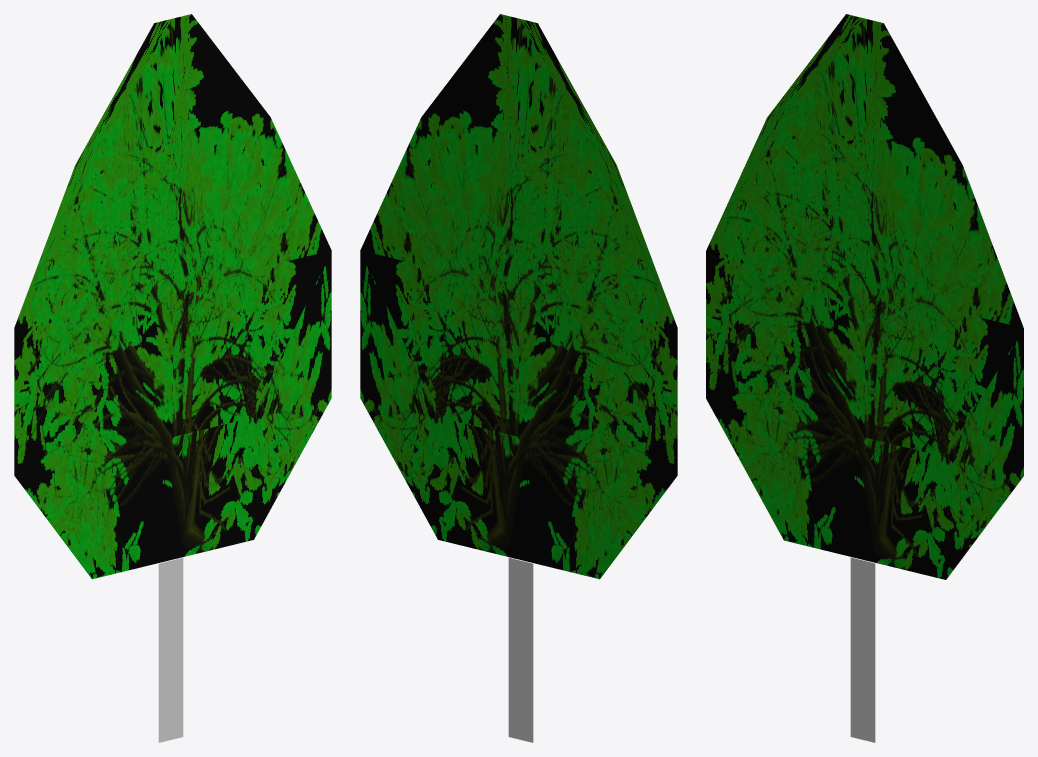
File: lollypop2.glb
3 renders of one model, left to right at view 1: azimuth 30°, elevation 25°; view 2: azimuth 150°, elevation 25°; view 3: azimuth 330°, elevation 25°, orthographic.
Visible parts, largest first — view 1: Crown.001, Trunk.001; view 2: Crown.001, Trunk.001; view 3: Crown.001, Trunk.001.
Part boxes in pixels (x1,y1,x2,y2): Crown.001: (14, 14, 331, 579); Trunk.001: (158, 558, 183, 742); Crown.001: (360, 14, 677, 579); Trunk.001: (508, 558, 533, 742); Crown.001: (706, 14, 1023, 579); Trunk.001: (850, 557, 875, 742).
Bounding box in the file's own units: 2.79 × 6.05 × 1.02e-06.
Materials: 2 (1 with a texture image).
